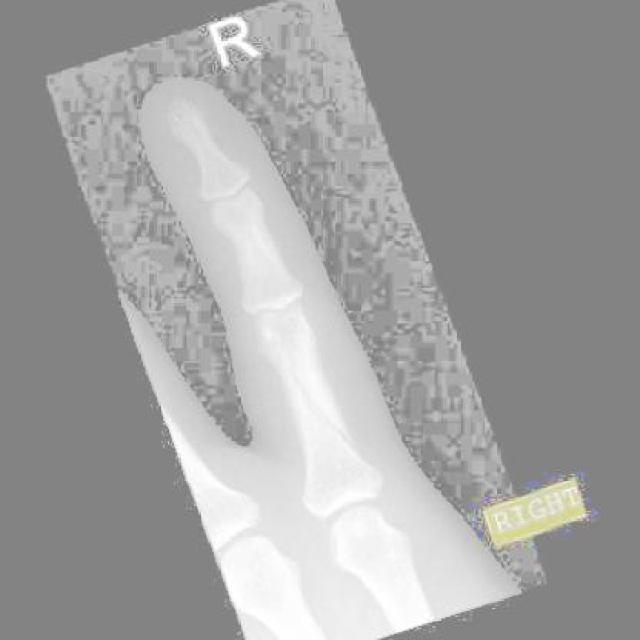Fracture: (246, 317, 359, 471)
